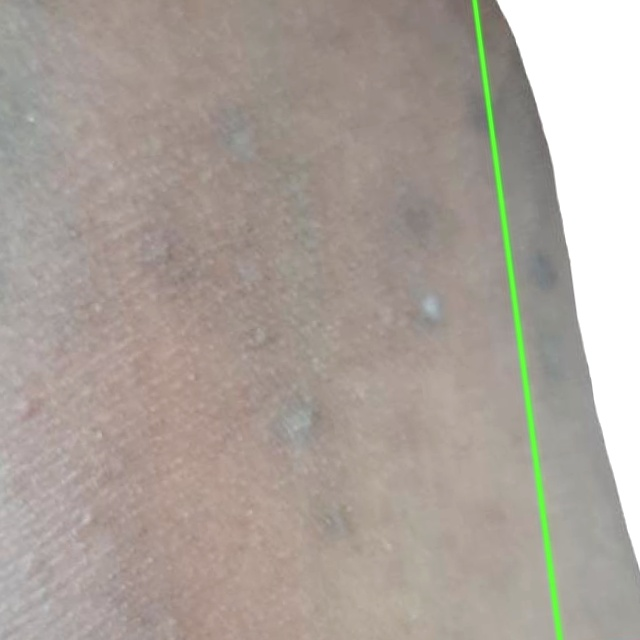Scabies: (474, 0, 639, 639)
